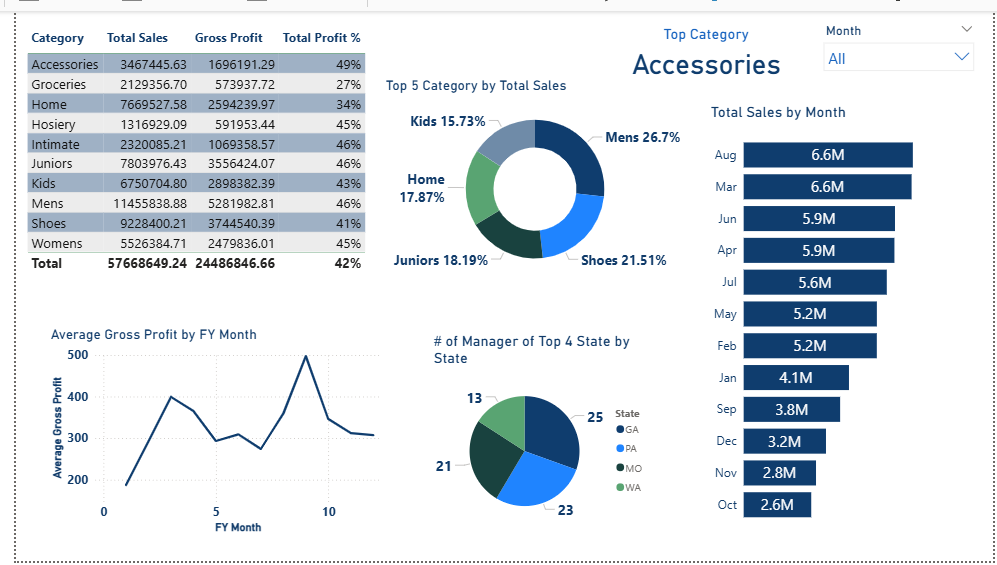

The page's visual inventory and layout, read from the dashboard file:
{"tool":"powerbi","page":{"name":"more details","canvas":[1280,720],"ordinal":2},"visuals":[{"type":"card","title":"Top Category","fields":{"Values":["Buyers.Category"]},"box":[788.6,17.9,231.2,74.3],"z":1000},{"type":"donutChart","title":"Top 5 Category by Total Sales","fields":{"Category":["Sales.Category"],"Y":["Sales.Total Sales"]},"box":[479,86.7,400.5,272.5],"z":3000},{"type":"lineChart","fields":{"Category":["Dates.FY Month"],"Y":["Sales.Gross Profit"]},"box":[40.3,411.8,442.1,276.5],"z":4000},{"type":"clusteredBarChart","fields":{"Y":["Sales.Total Sales"],"Category":["Dates.Month"]},"box":[904.3,121,334.1,564.5],"z":5000},{"type":"pieChart","fields":{"Y":["Managers.Manager Full Name"],"Category":["States.State"]},"box":[541.4,420.5,299.5,267.8],"z":6000},{"type":"slicer","fields":{"Values":["Dates.Month"]},"box":[1046.9,10.1,217.4,77.8],"z":7000},{"type":"tableEx","fields":{"Values":["Sales.Category","Sales.Total Sales","Sales.Gross Profit","Sales.Total Profit %"]},"box":[8.6,17.3,460.8,342.7],"z":8000}]}

Visuals, with their boxes in screenshot pixels (x1, y1, x2, y2), scaled from the page's 1280x720 canvas onto the 997x565 screenshot:
"Top Category" card: <region>614, 14, 794, 72</region>
"Top 5 Category by Total Sales" donutChart: <region>373, 68, 685, 282</region>
lineChart - Dates.FY Month x Sales.Gross Profit: <region>31, 323, 376, 540</region>
clusteredBarChart - Sales.Total Sales x Dates.Month: <region>704, 95, 965, 538</region>
pieChart - Managers.Manager Full Name x States.State: <region>422, 330, 655, 540</region>
slicer - Dates.Month: <region>815, 8, 985, 69</region>
tableEx - Sales.Category x Sales.Total Sales: <region>7, 14, 366, 282</region>
